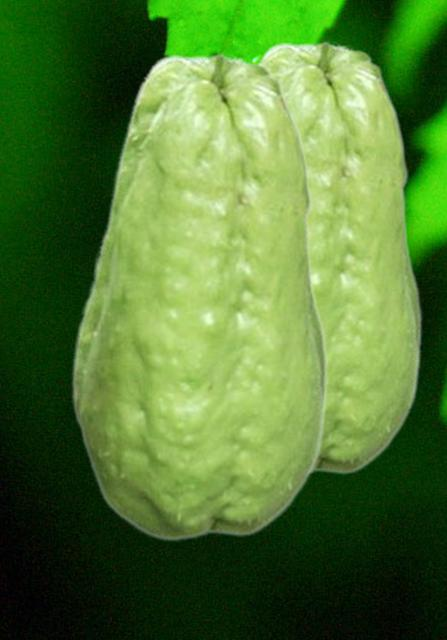sayote: (70, 52, 329, 542), (257, 40, 423, 476)
